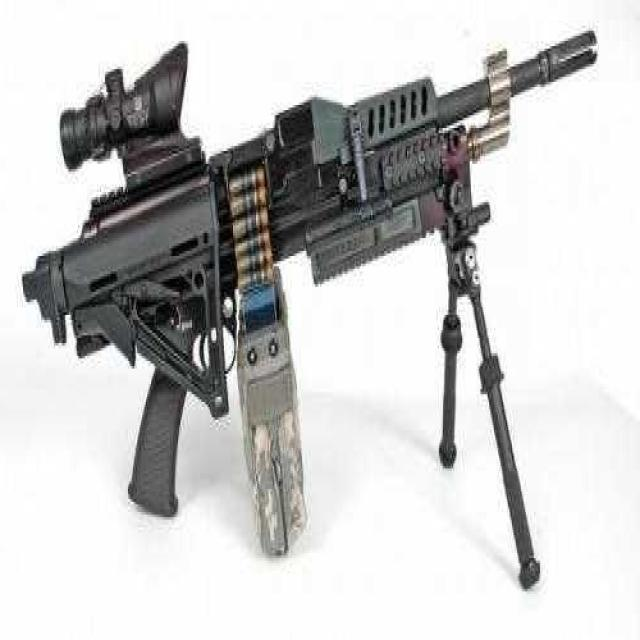heavyweapon: (11, 6, 600, 598)
